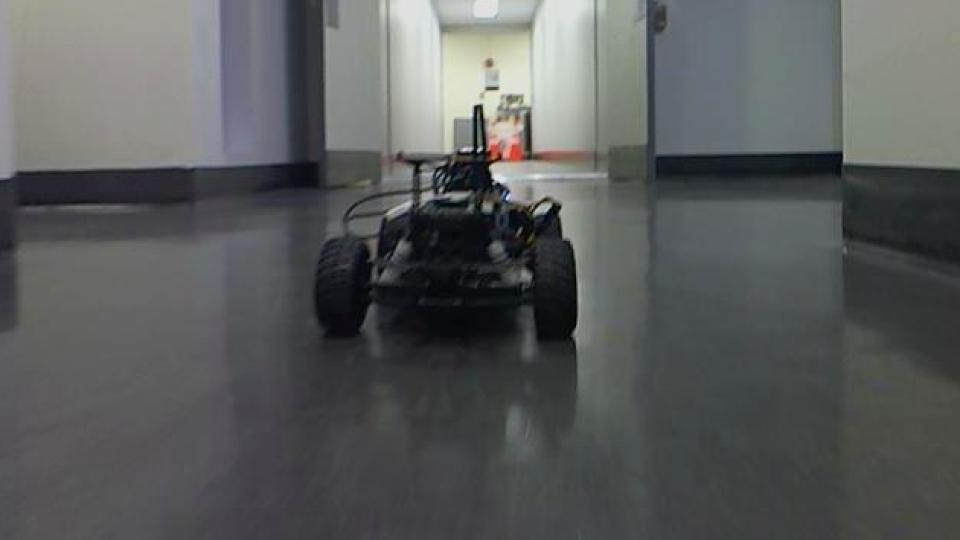car: (310, 102, 580, 345)
